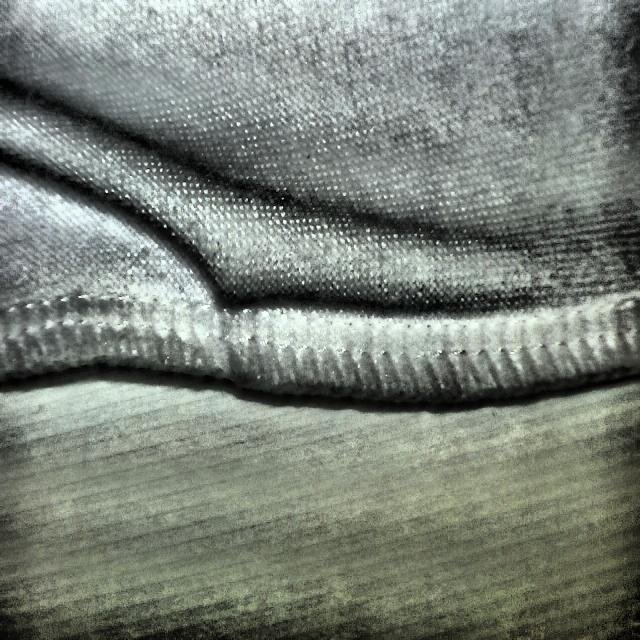seam: (144, 183, 374, 400)
